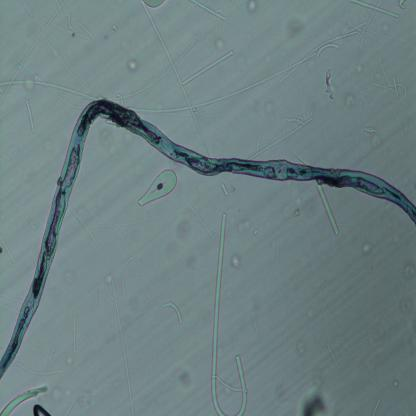Air bubble: (31, 403, 50, 415)
Background material: (163, 215, 199, 269), (295, 383, 336, 414), (164, 358, 194, 388), (282, 15, 310, 43), (81, 382, 98, 411), (323, 68, 337, 103), (401, 260, 416, 280), (235, 214, 252, 231), (49, 381, 62, 402), (65, 393, 78, 414), (229, 252, 243, 271), (126, 56, 140, 74), (361, 240, 374, 259), (343, 92, 356, 110), (296, 336, 307, 357), (400, 298, 412, 316), (246, 1, 260, 15), (362, 122, 378, 134), (370, 135, 383, 147), (379, 21, 390, 32), (110, 20, 119, 32), (66, 356, 75, 368), (252, 226, 258, 236)
Cotton: (0, 99, 416, 379)
Glass filter fibre: (133, 18, 364, 113), (141, 0, 213, 153), (0, 0, 66, 102), (209, 211, 228, 415), (110, 280, 135, 414), (250, 116, 314, 160), (0, 76, 98, 101), (182, 50, 233, 86), (138, 168, 177, 207), (0, 385, 49, 416), (316, 183, 340, 237), (387, 103, 409, 155), (188, 199, 214, 240), (71, 209, 98, 247), (232, 352, 248, 416), (12, 361, 66, 379), (351, 0, 400, 19), (190, 0, 228, 21), (121, 255, 135, 302), (297, 269, 323, 293), (161, 302, 184, 326), (286, 207, 302, 238), (70, 307, 80, 354), (0, 233, 15, 264), (75, 20, 96, 42), (376, 58, 392, 86), (316, 41, 340, 59), (26, 99, 36, 134), (326, 343, 338, 366), (142, 0, 167, 10), (250, 304, 258, 335), (392, 76, 402, 100), (371, 80, 392, 91), (372, 395, 382, 414), (65, 12, 74, 30), (220, 182, 230, 197), (274, 242, 280, 266), (399, 0, 406, 10)
